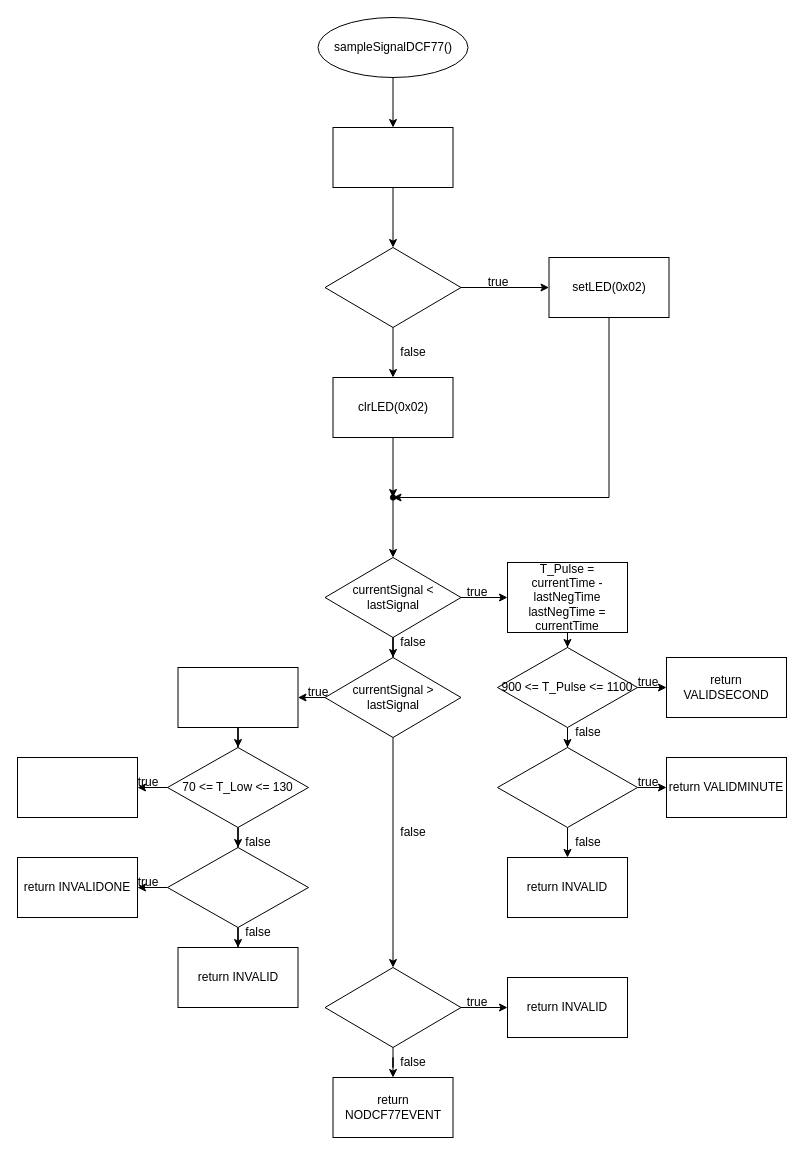
This 804x1155 diagram has some shape labels left out. Here are the shapes that lost their labels. From the top down, the centre of each, then its label:
the point at 392,157: lastSignal = currentSignal currentSignal = readPort()
the point at 392,287: currentSignal
the point at 237,697: T_Low = currentTime - lastNegEdgeTime
the point at 77,787: return VALIDZERO
the point at 567,787: 1900 <= T_Pulse <= 2100
the point at 237,887: 170 <= T_Low <= 230
the point at 392,1007: currentTime - lastNegEdgeTime > 2100
